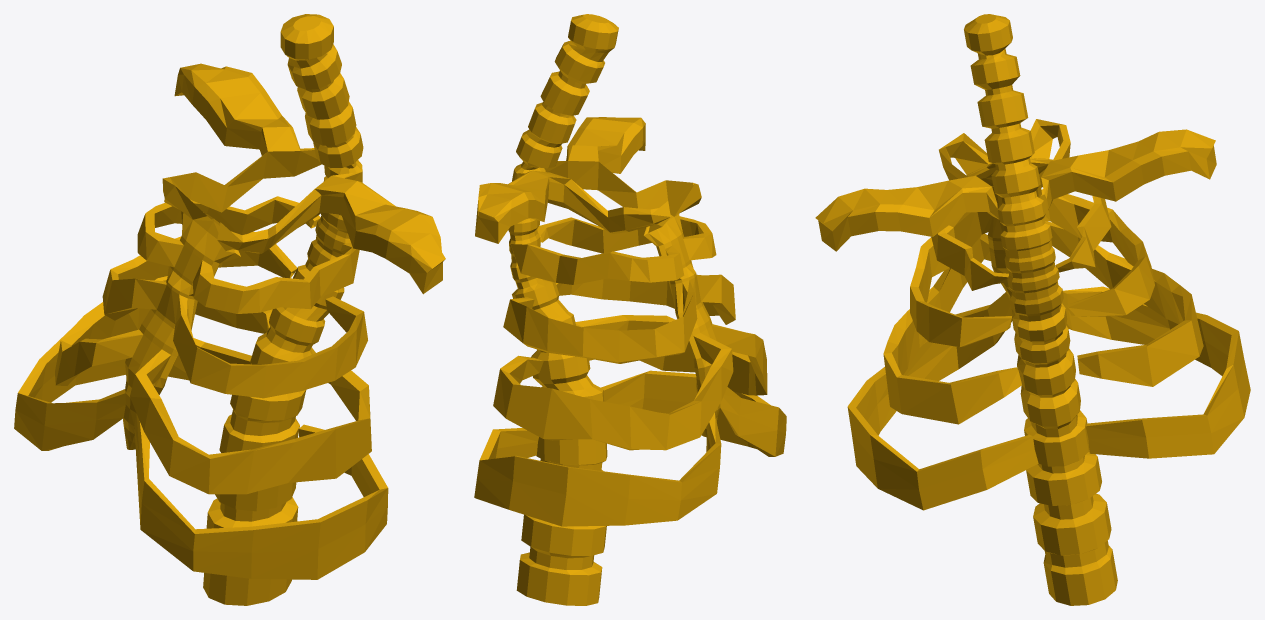
File: bone_chest.FBX
3 views of the same model, side by side, from view 1: azimuth 30°, elevation 25°; view 2: azimuth 150°, elevation 25°; view 3: azimuth 270°, elevation 25° (orthographic). The views are drawn at different scales.
Parts seen in each view (by area): view 1: chest003; view 2: chest003; view 3: chest003.
Part boxes in pixels (<box>): chest003: <box>14,14,445,605</box>; chest003: <box>474,14,786,605</box>; chest003: <box>815,14,1250,605</box>.
Bounding box in the file's own units: 19.23 × 40.9 × 27.86.
